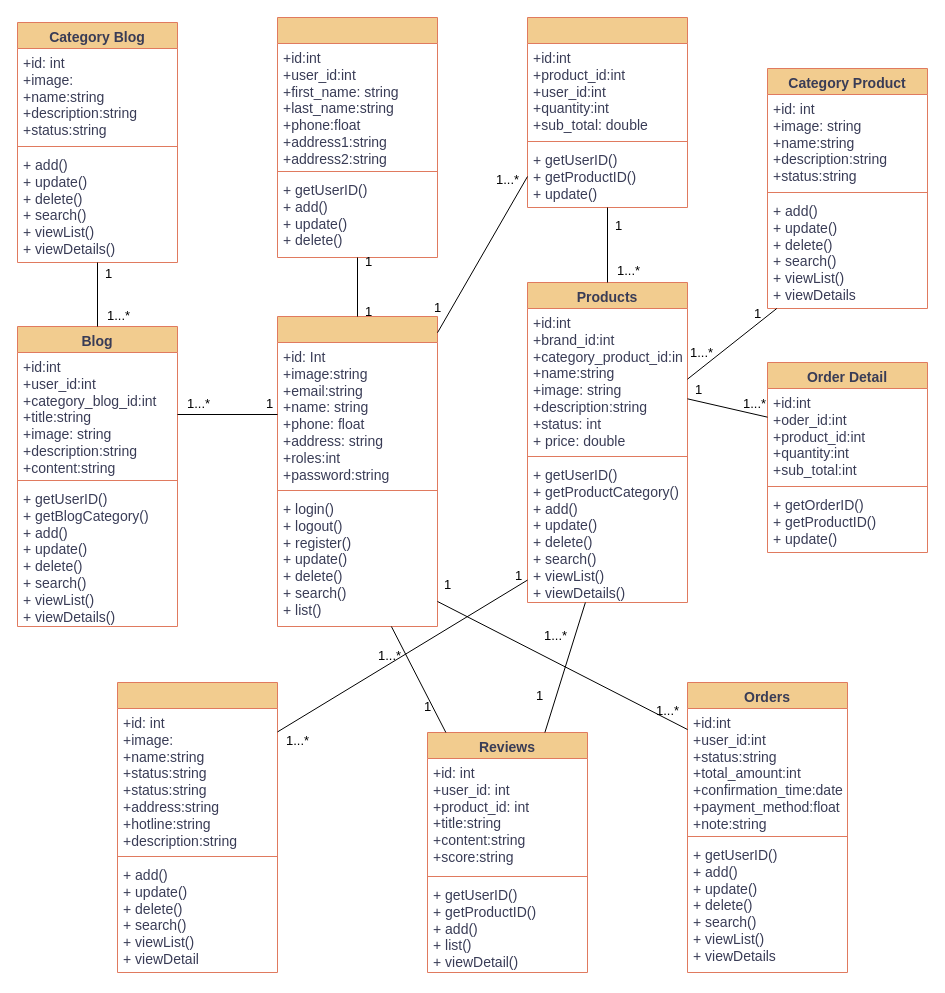
This 945x993 diagram has some shape labels left out. The shapes that lost their labels are listed below. From the top down, each one's box as (x1, y1, x2, y2) in pixels, then its label:
(526, 16, 688, 208): Cart
(276, 16, 438, 258): User Details
(276, 316, 438, 626): Users
(116, 682, 278, 972): Brand
